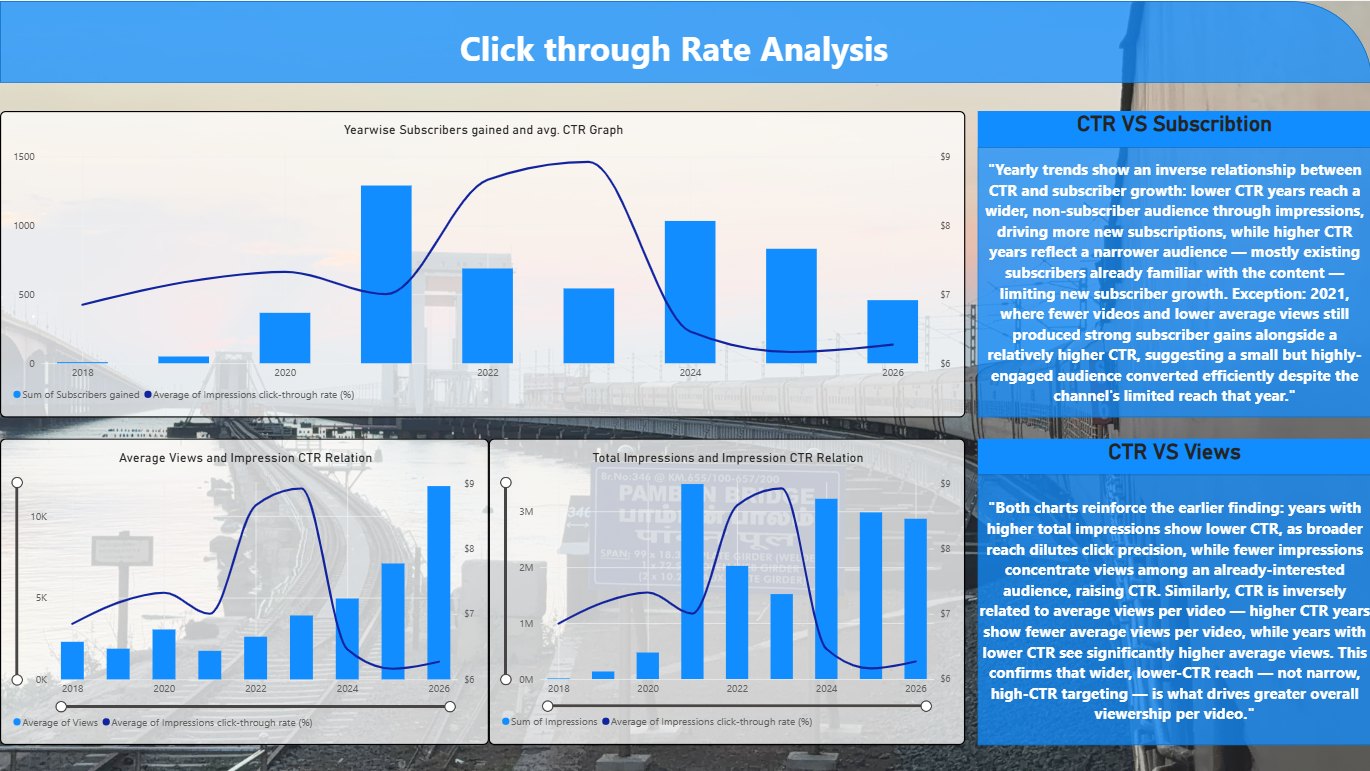

This screenshot's page, from the dashboard's own definition file:
{"tool":"powerbi","page":{"name":"Page 2","canvas":[1920,1080],"ordinal":1},"visuals":[{"type":"lineStackedColumnComboChart","title":"Yearwise Subscribers gained and avg. CTR Graph","fields":{"Category":["Youtube Video Dataset.Published Date.Variation.Date Hierarchy.Year"],"Y":["Sum(Youtube Video Dataset.Subscribers gained)"],"Y2":["Avg(Youtube Video Dataset.Impressions click-through rate (%))"]},"box":[0,153.7,1350,428.9],"z":0},{"type":"shape","title":"CTR VS Subscribtion","box":[1367.7,153.7,551.9,428.5],"z":2},{"type":"lineStackedColumnComboChart","title":"Average Views and Impression CTR Relation","fields":{"Category":["Youtube Video Dataset.Published Date.Variation.Date Hierarchy.Year"],"Y":["Avg(Youtube Video Dataset.Views)"],"Y2":["Avg(Youtube Video Dataset.Impressions click-through rate (%))"]},"box":[0,612.5,684,429],"z":3},{"type":"shape","title":"CTR VS Views","box":[1367.7,612.5,552,429],"z":4},{"type":"lineStackedColumnComboChart","title":"Total Impressions and Impression CTR Relation","fields":{"Category":["Youtube Video Dataset.Published Date.Variation.Date Hierarchy.Year"],"Y":["Sum(Youtube Video Dataset.Impressions)"],"Y2":["Avg(Youtube Video Dataset.Impressions click-through rate (%))"]},"box":[683.9,612.5,666.6,428.5],"z":5},{"type":"shape","box":[0,0,1919.6,114.7],"z":6}]}

Visuals, with their boxes in screenshot pixels (x1, y1, x2, y2), scaled from the page's 1920x1080 canvas onto the 1370x771 screenshot:
"Yearwise Subscribers gained and avg. CTR Graph" lineStackedColumnComboChart: 0 110 963 416
"CTR VS Subscribtion" shape: 976 110 1369 416
"Average Views and Impression CTR Relation" lineStackedColumnComboChart: 0 437 488 744
"CTR VS Views" shape: 976 437 1369 744
"Total Impressions and Impression CTR Relation" lineStackedColumnComboChart: 488 437 964 743
shape: 0 0 1369 82
